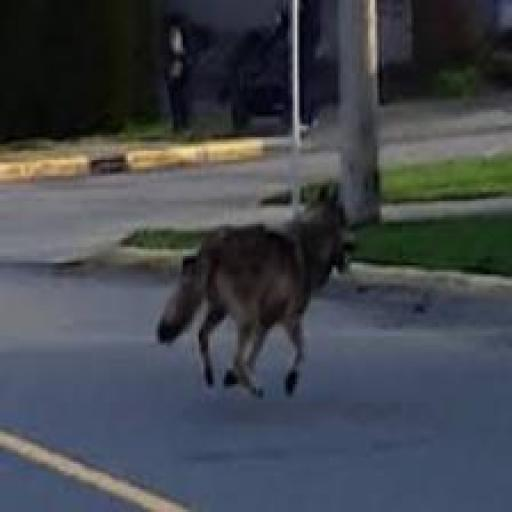wolf: (155, 176, 359, 409)
